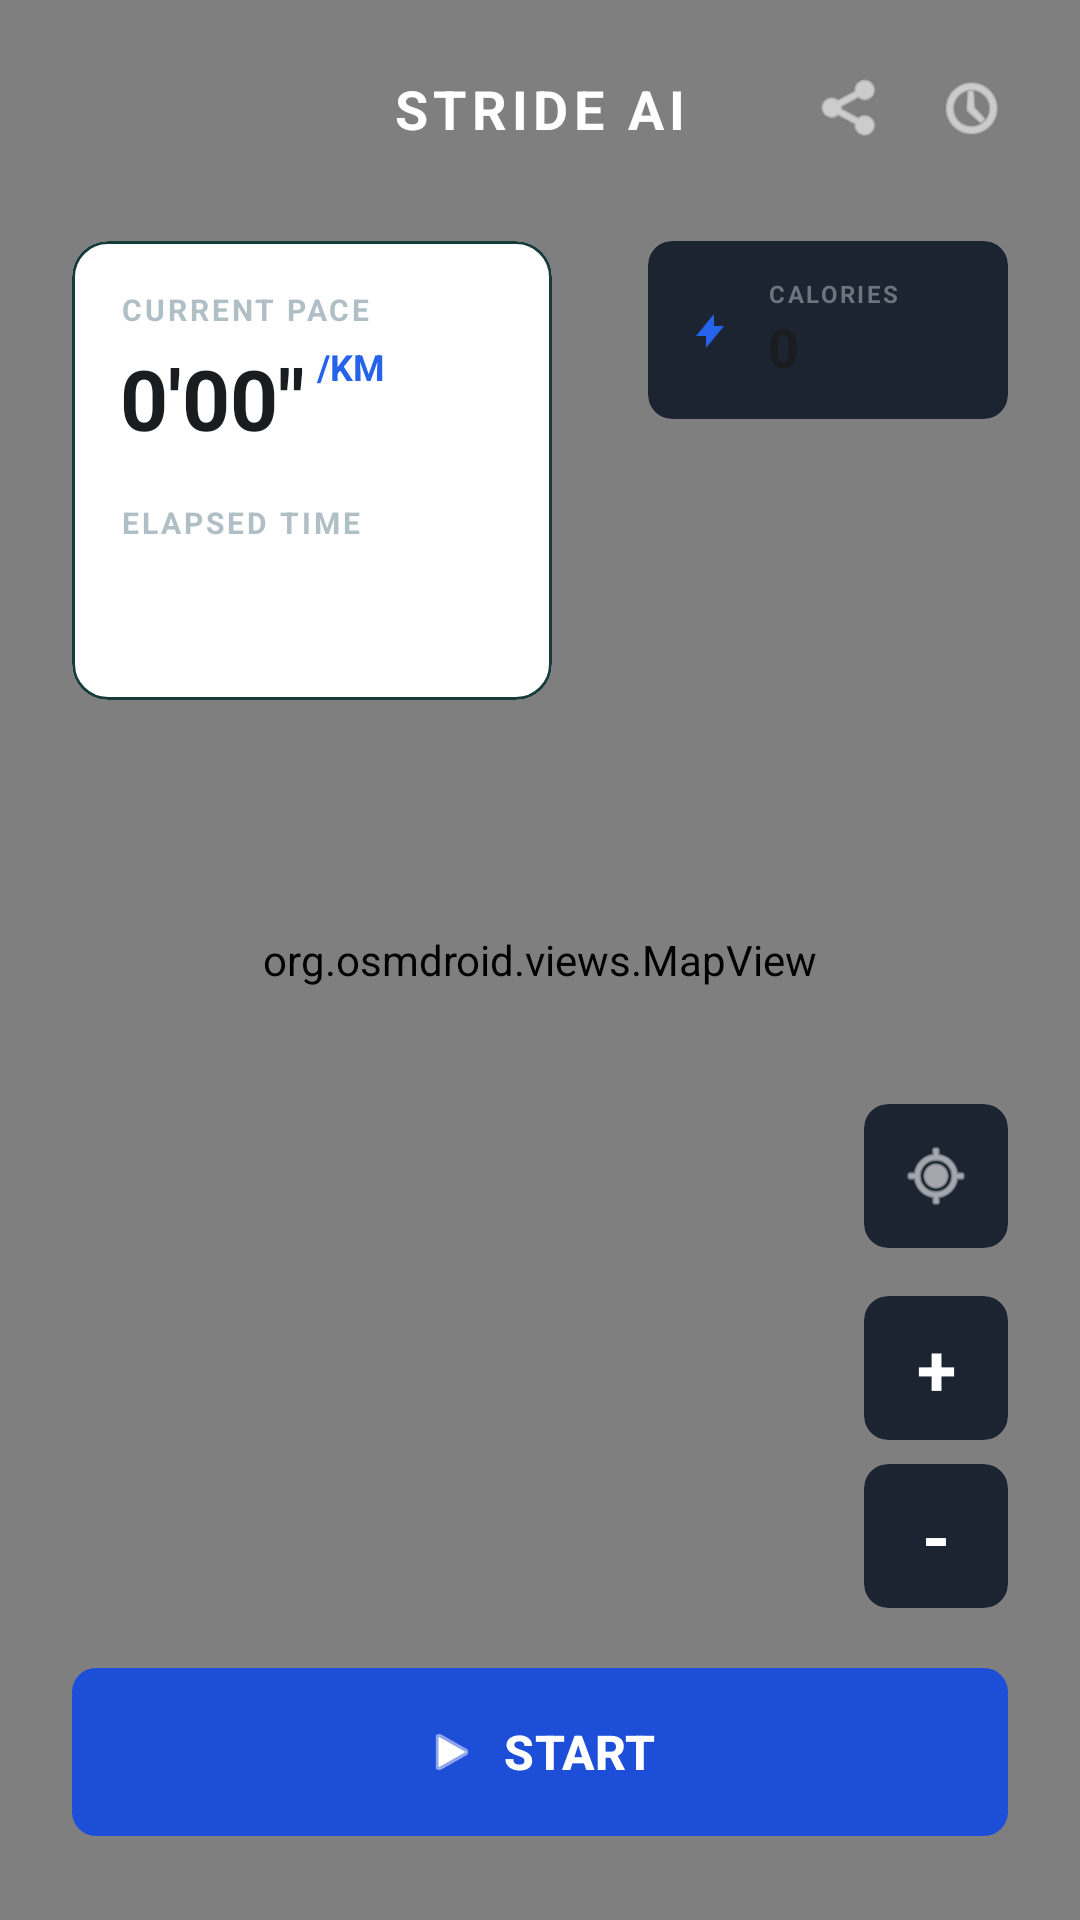

Where icons sit on this 1080x1920 app screen, as (x1, y1, x2, y2):
bolt: (696, 314, 724, 348)
mylocation: (907, 1147, 965, 1205)
recent history: (946, 82, 998, 134)
share: (821, 80, 875, 136)
